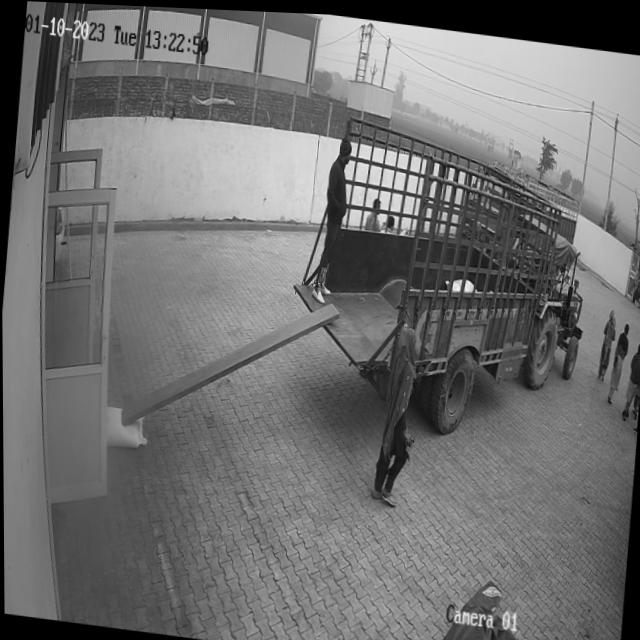sack: (103, 403, 148, 448)
